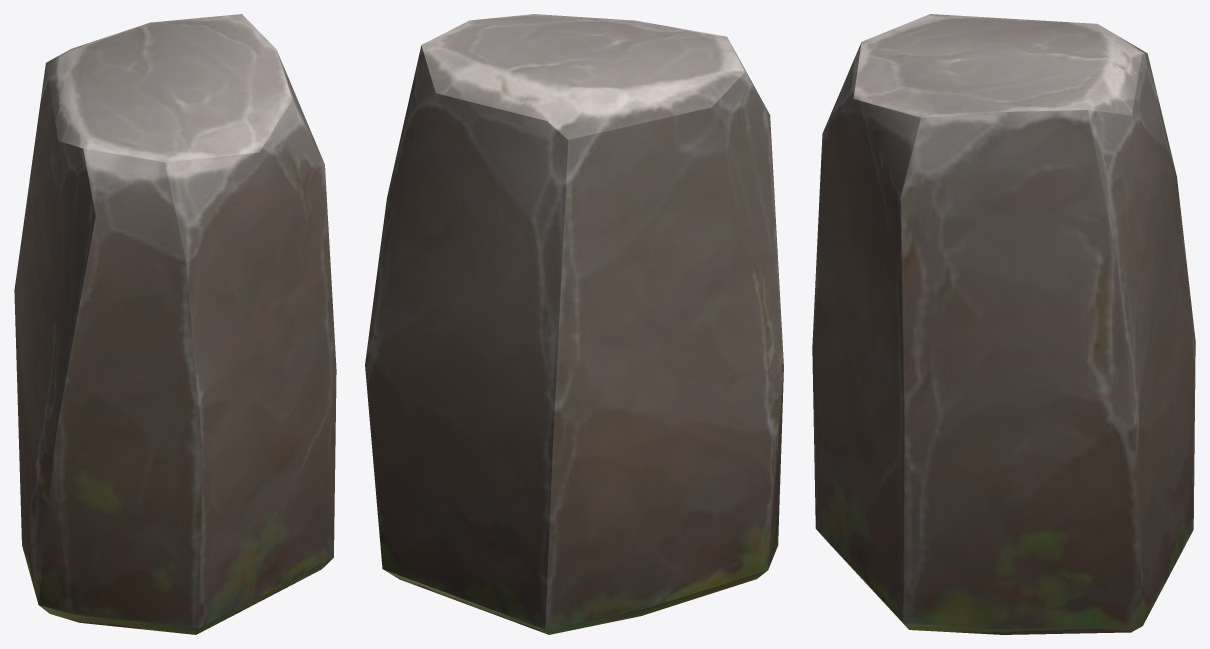
File: Rock_02.fbx
The picture shows the model from 3 angles, left to right: view 1: azimuth 30°, elevation 25°; view 2: azimuth 150°, elevation 25°; view 3: azimuth 270°, elevation 25°; orthographic projection. The views are drawn at different scales.
Parts seen in each view (by area): view 1: Stone_5_Low.001; view 2: Stone_5_Low.001; view 3: Stone_5_Low.001.
Part boxes in pixels (left/top/right/bottom): Stone_5_Low.001: left=14, top=14, right=336, bottom=634; Stone_5_Low.001: left=365, top=14, right=783, bottom=634; Stone_5_Low.001: left=812, top=14, right=1195, bottom=634.
Size of the model in its own units: 104 by 166 by 107.
1 material, 1 textured.
